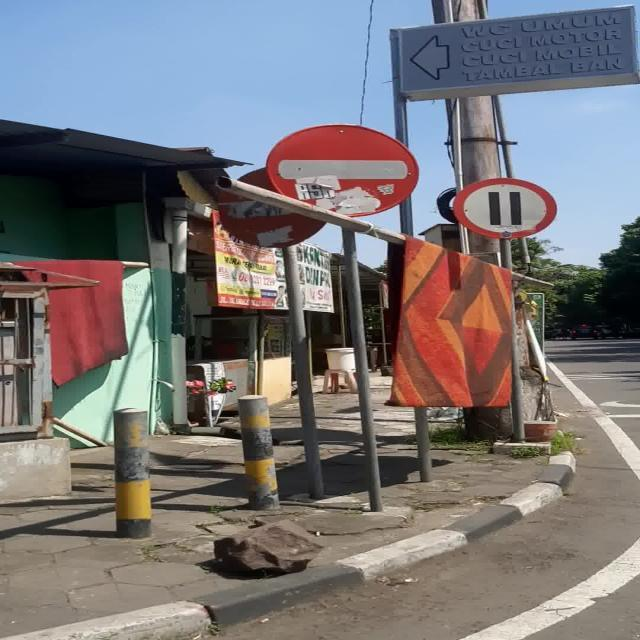Larangan Muatan - 10 ton: (453, 178, 557, 238)
